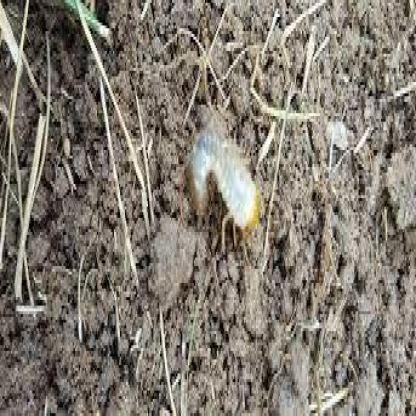root grubs: (191, 124, 261, 246)
